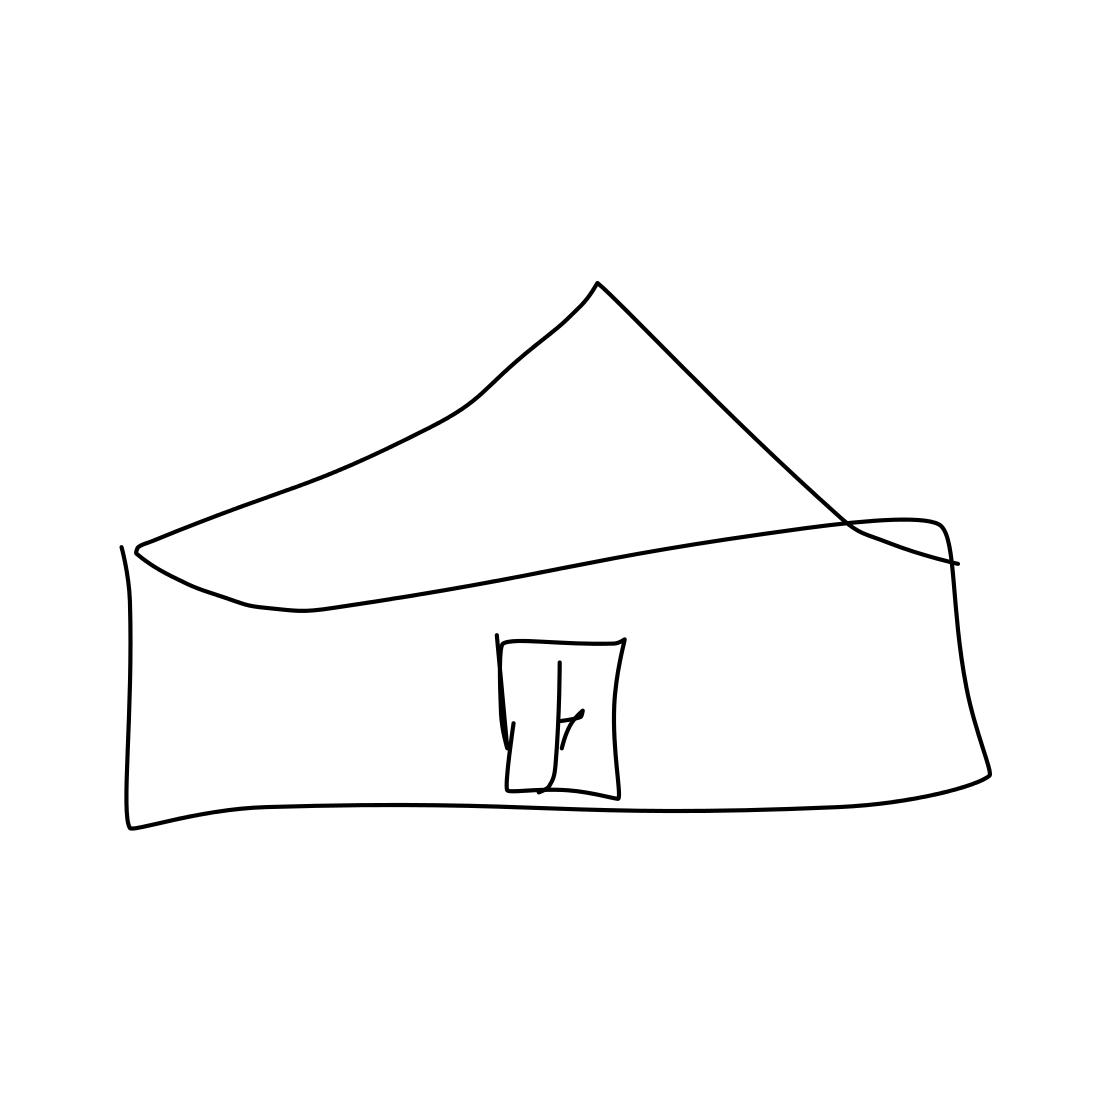House: (84, 230, 1040, 857)
